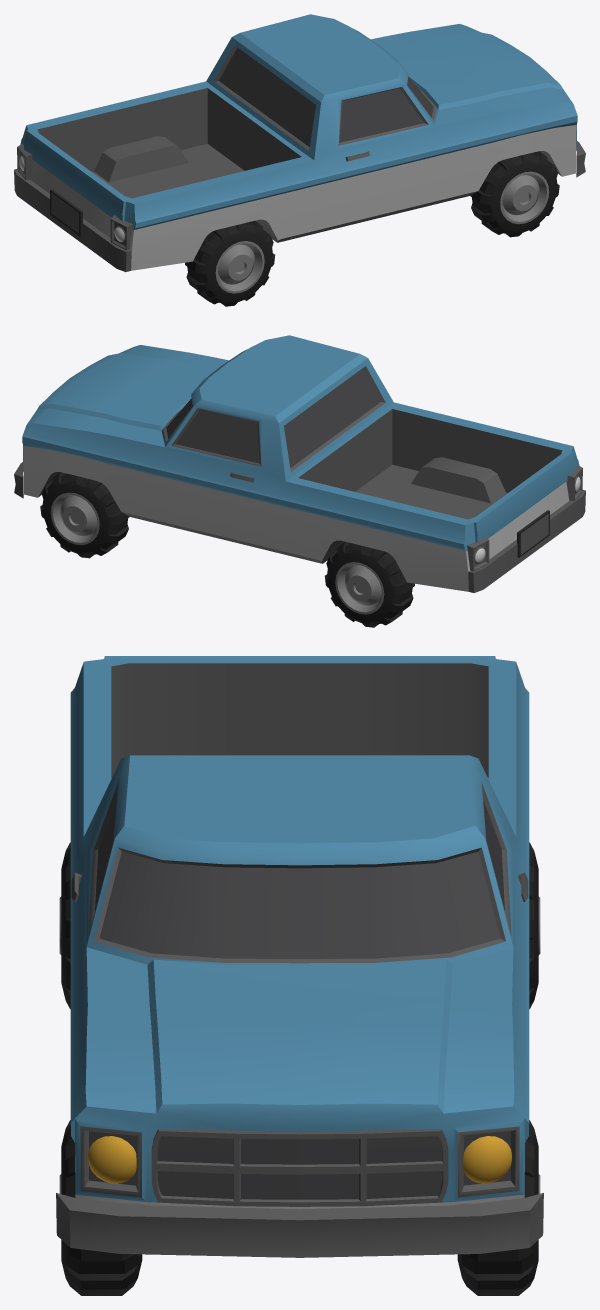
Rendered from ute_generic.glb.
3 views of the same model, one above another, from view 1: azimuth 30°, elevation 25°; view 2: azimuth 150°, elevation 25°; view 3: azimuth 270°, elevation 25° (orthographic). The views are drawn at different scales.
Parts seen in each view (by area): view 1: BackWheels; view 2: BackWheels; view 3: BackWheels.
Part boxes in pixels (<box>): BackWheels: <box>14,14,585,306</box>; BackWheels: <box>14,335,585,627</box>; BackWheels: <box>56,656,543,1295</box>.
Bounding box in the file's own units: 5.2 × 1.86 × 2.32.
Materials: 1 (1 with a texture image).
